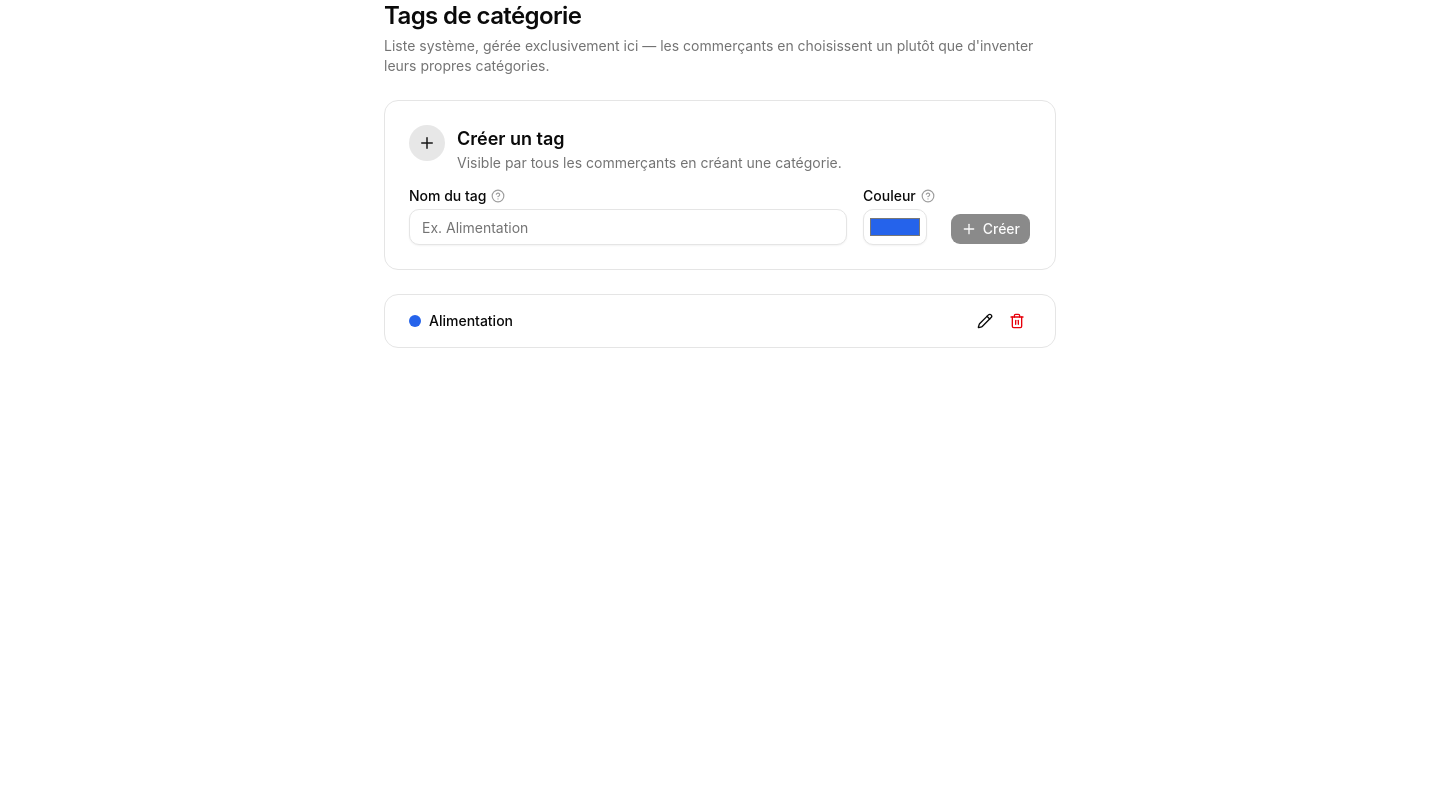
Test case: CategoryTagsPageContent › modifier un tag (double-clic ou icône) › shows an error and keeps the dialog open when the update fails
This screenshot has width=1440, height=810.
Step 1. Click the button named "Modifier Alimentation" → (985, 321), box [971, 307, 999, 335]
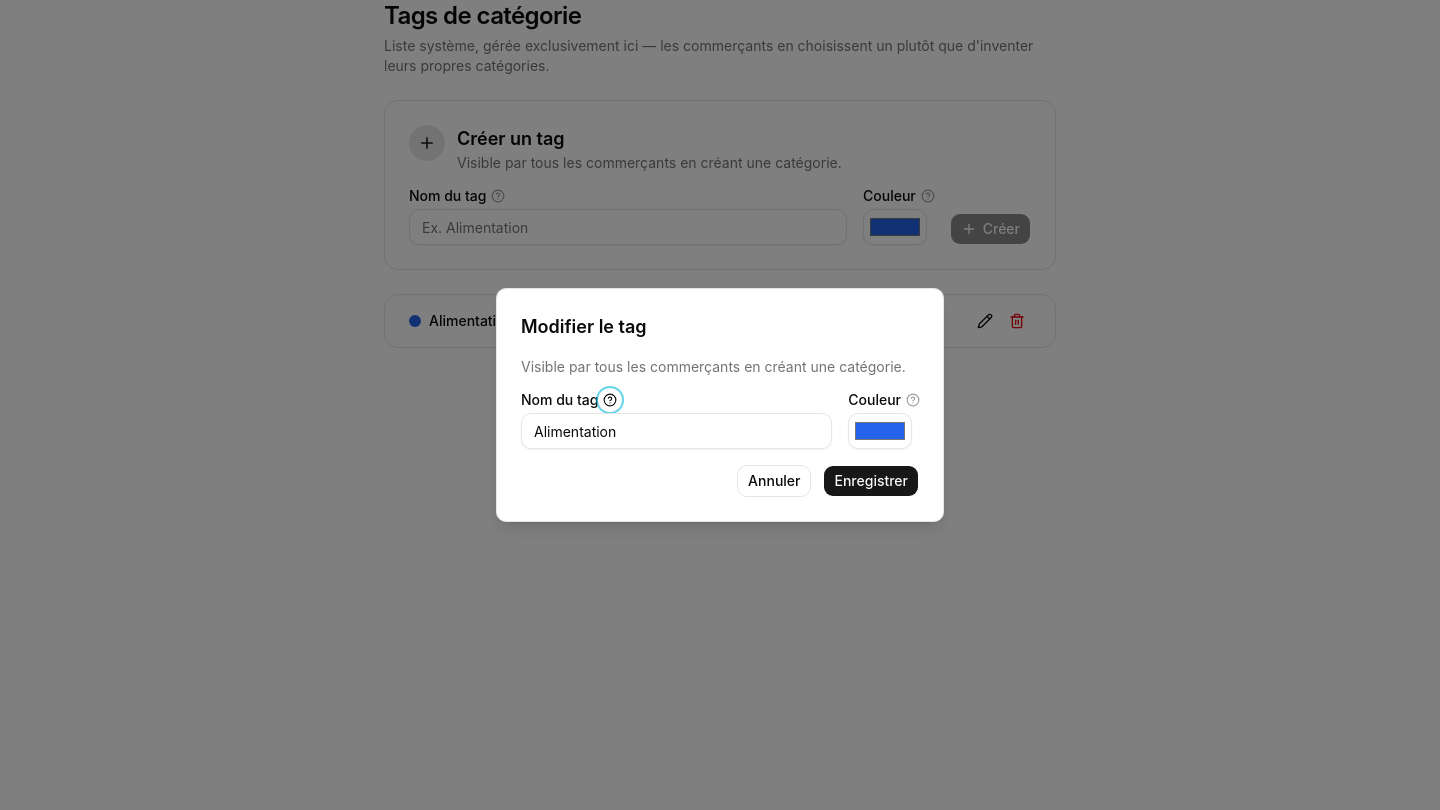
Step 2. Click the button "Enregistrer" → (871, 481), box [824, 465, 919, 497]
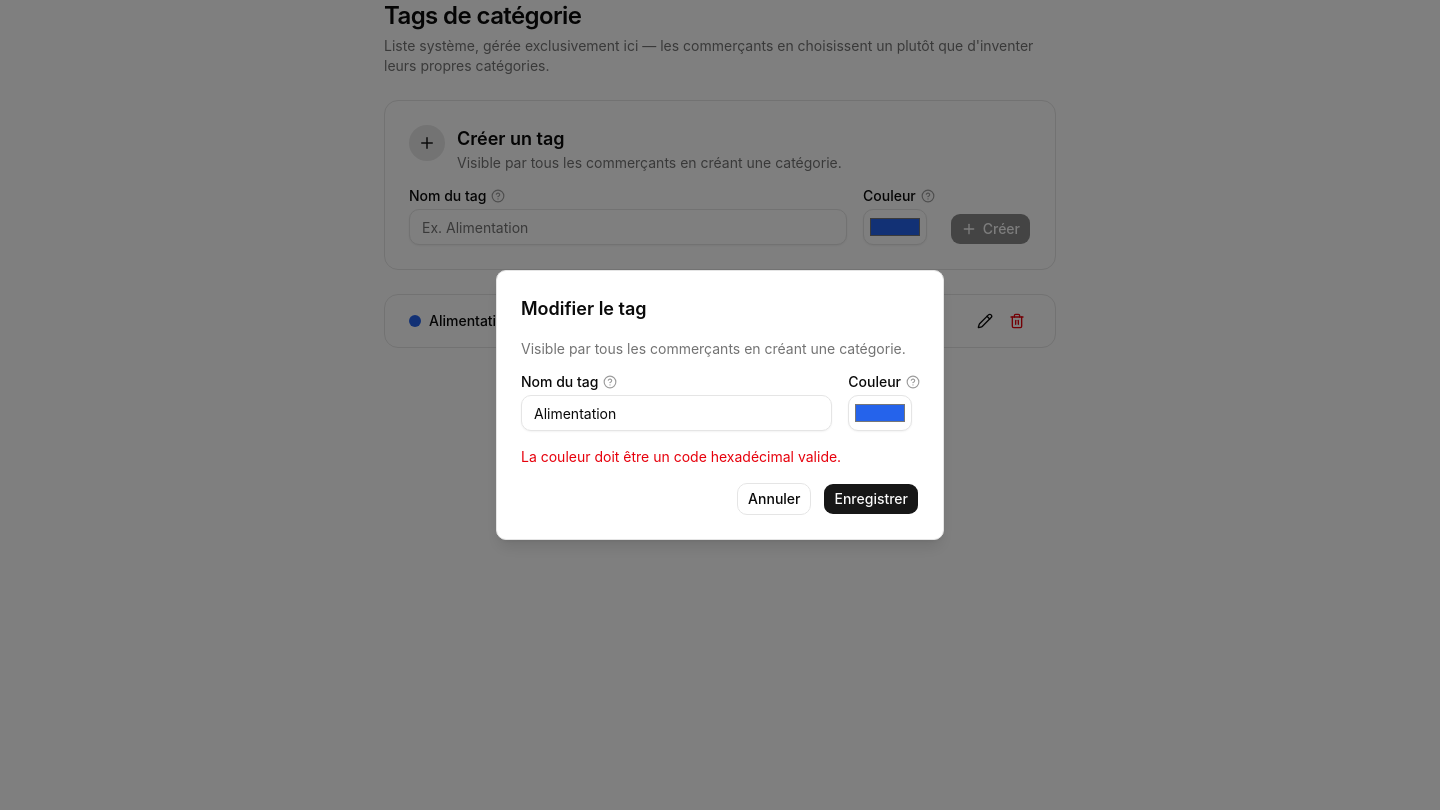
Expected: the text "La couleur doit être un code hexadécimal valide." is shown, [521, 448, 841, 465]
